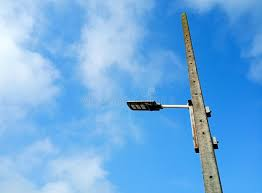light_pole: (178, 9, 230, 193)
